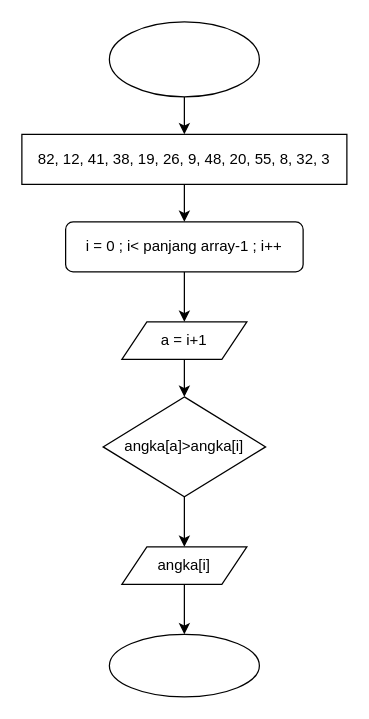
Image size: 369x719. Some labels were removed from this diagram. The centre of each missing label's shape, as x and y in pixels:
"Mulai" goes at (x=183, y=59).
"Selesai" goes at (x=183, y=665).
